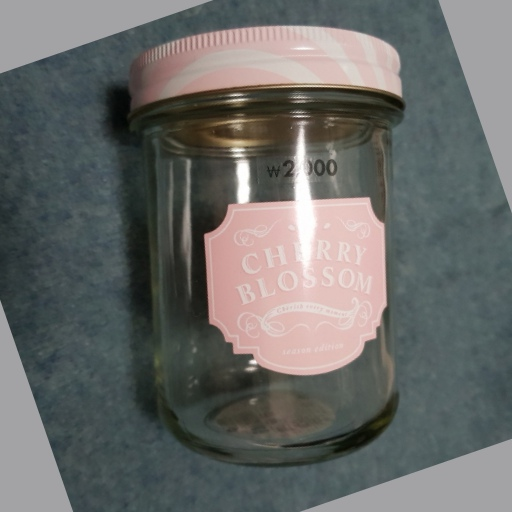Glass_5: (122, 26, 407, 465)
